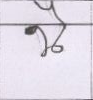ai_matra: (35, 0, 67, 22)
